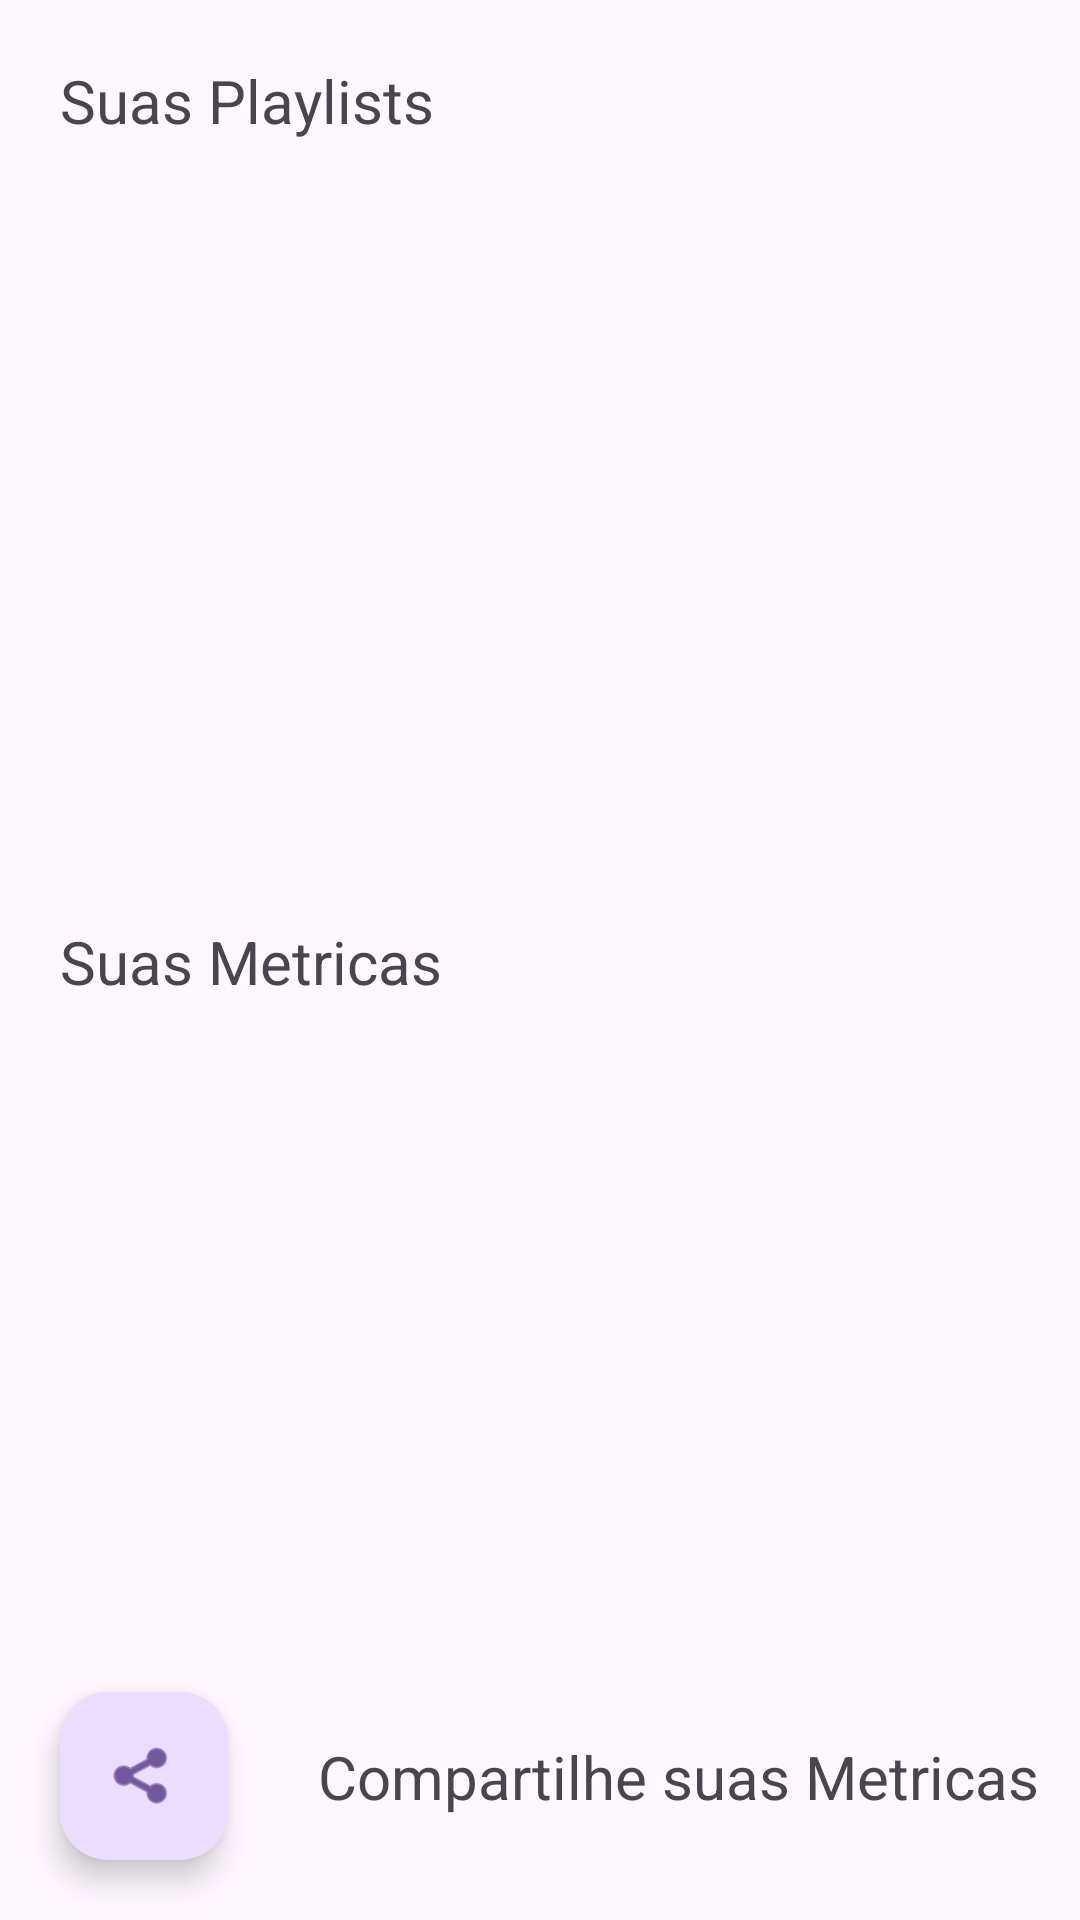

Icons on this 1080x1920 Android screen, each with its box as region(x1, y1, x2, y2):
share: region(60, 1692, 228, 1860)
